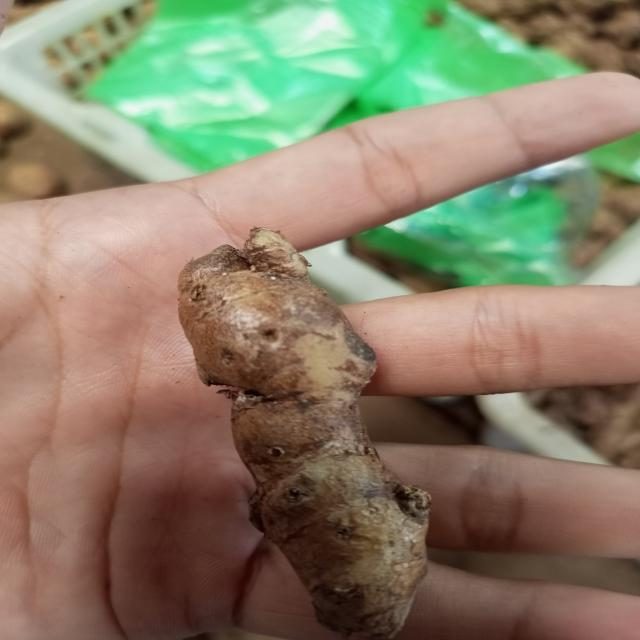ginger: (184, 240, 428, 590)
